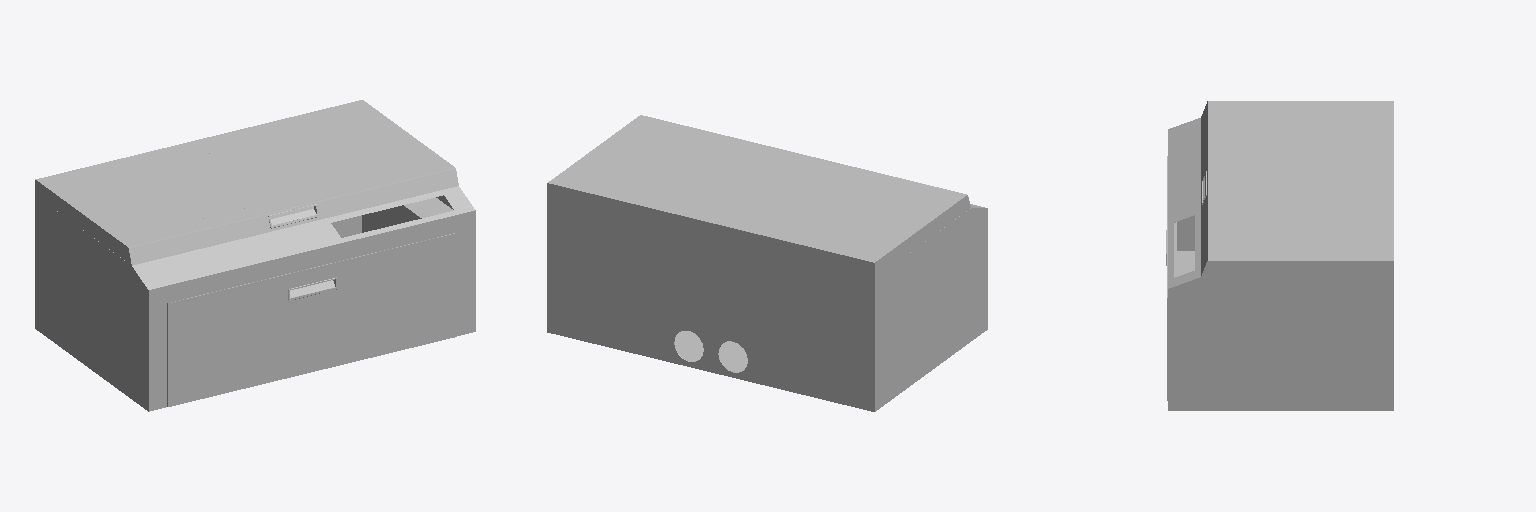
Rendered from caseclear.obj.
The picture shows the model from 3 angles: view 1: azimuth 30°, elevation 25°; view 2: azimuth 150°, elevation 25°; view 3: azimuth 270°, elevation 25°; orthographic projection.
Parts seen in each view (by area): view 1: default; view 2: default; view 3: default.
Boxes of the visible parts, x1,y1,x2,y2 form: default: [35, 100, 475, 411]; default: [547, 115, 987, 411]; default: [1166, 101, 1393, 410].
Bounding box in the file's own units: 44 × 19.21 × 26.52.